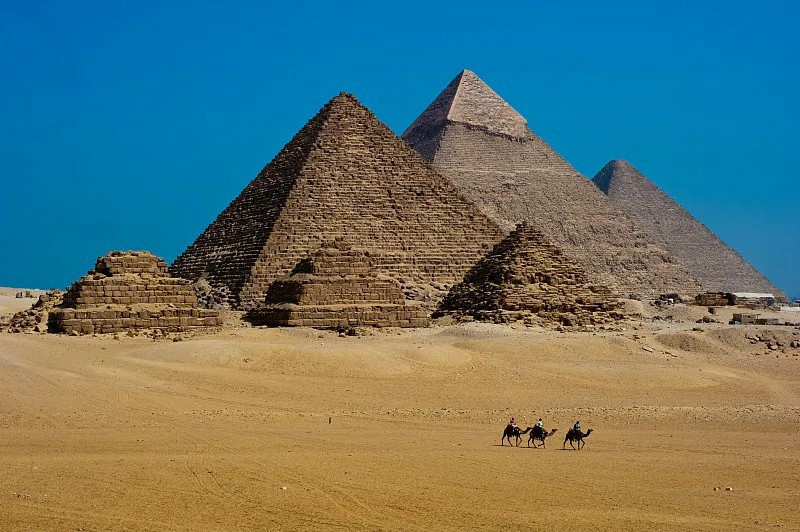Pyramid: (167, 92, 506, 316), (402, 67, 705, 308), (593, 160, 790, 302), (441, 220, 628, 322), (244, 237, 433, 329), (34, 248, 226, 334)
